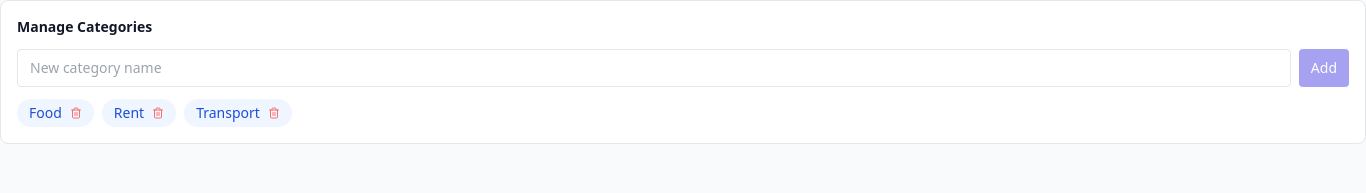
Test: ManageCategoriesPanel › shows error message when addCategory fails
The width and height of the screenshot is (1366, 193).
Type "Groceries" into the field with placeholder "New category name". click: (654, 68)
box: [17,49,1291,87]
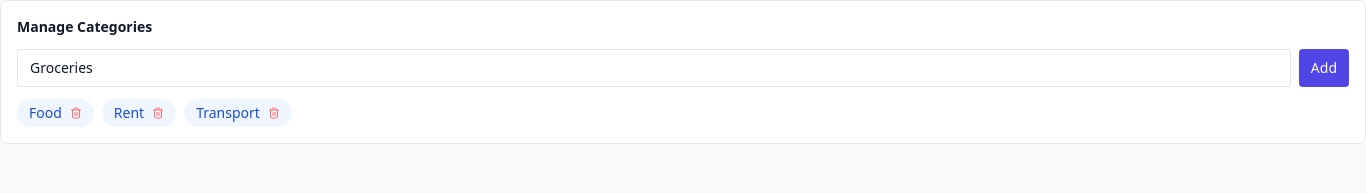
Click the button "Add". click: (1324, 68)
box: [1299,49,1349,87]
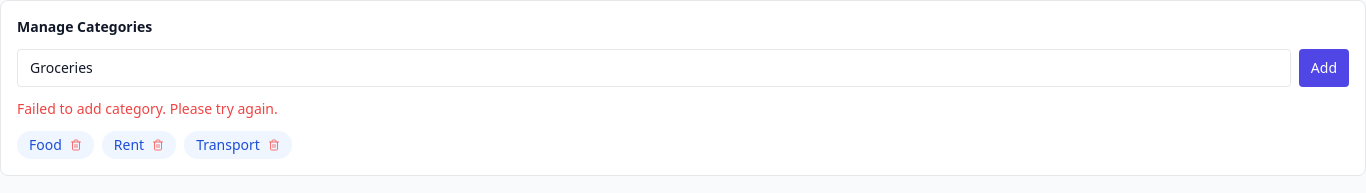
expect the text "Failed to add category. Please try again." is shown: met, box [17,99,278,118]
